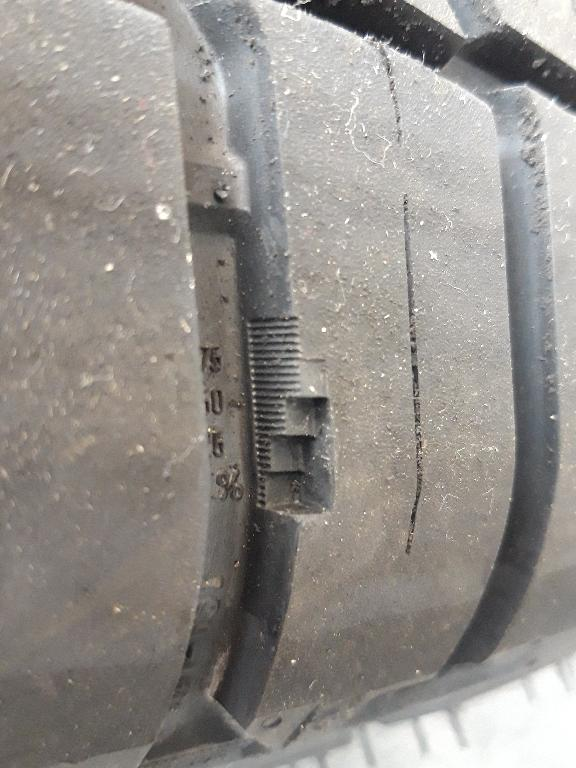temoin:75: (239, 348, 344, 531)
